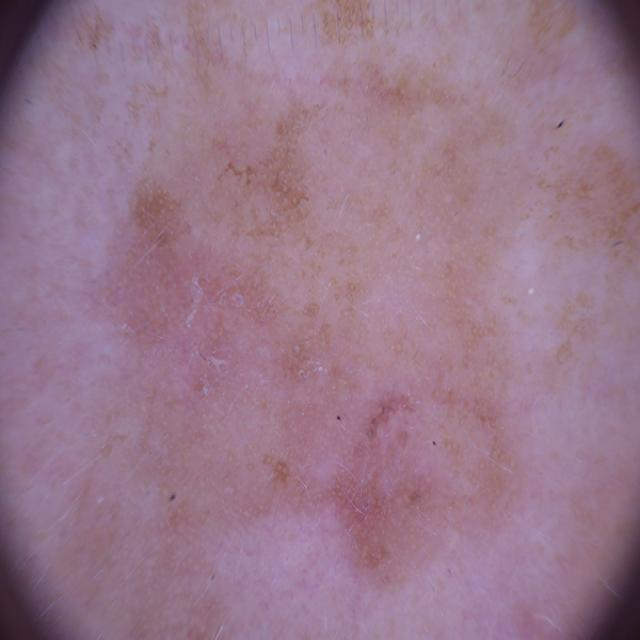Skin-Cancer Pigmented benign keratosis: (24, 14, 638, 640)
